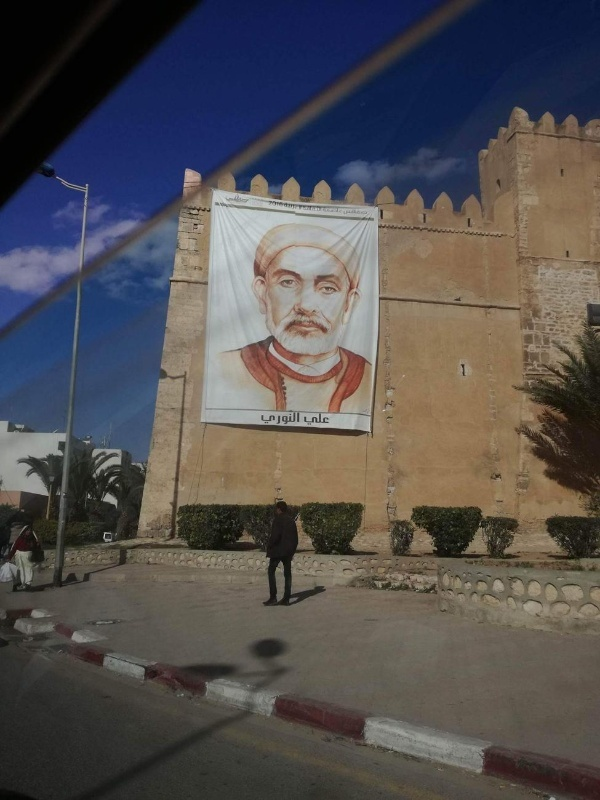text: (353, 199, 369, 217), (273, 199, 288, 217), (289, 199, 304, 217), (305, 199, 320, 217), (321, 199, 336, 217), (337, 199, 352, 217), (273, 411, 288, 426), (305, 413, 320, 426), (289, 411, 301, 426), (225, 192, 240, 204), (261, 411, 272, 426), (321, 413, 330, 426), (241, 192, 249, 204), (269, 199, 272, 217)
